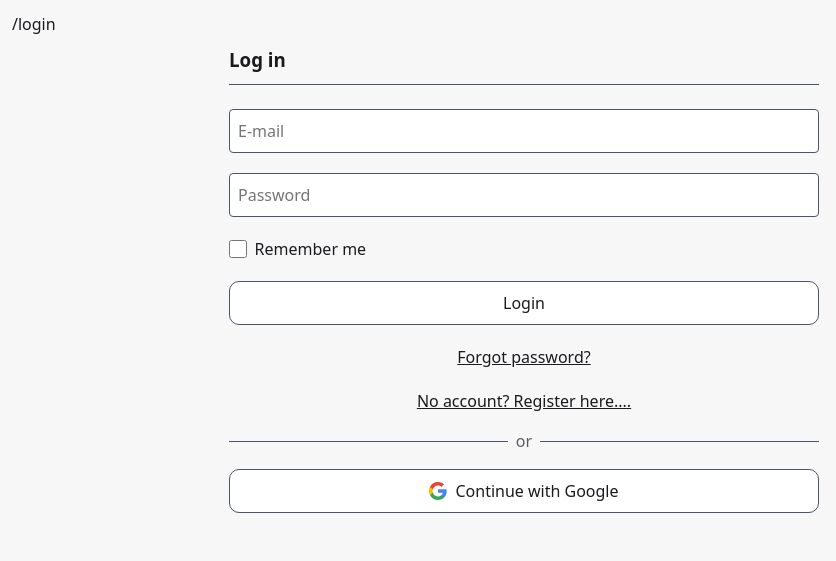
Test: LoginPage › clears a field's server error when its value changes
Type "ada@example.com" into the field labelled "E-mail" at coordinates (524, 131), box [229,109,819,153]
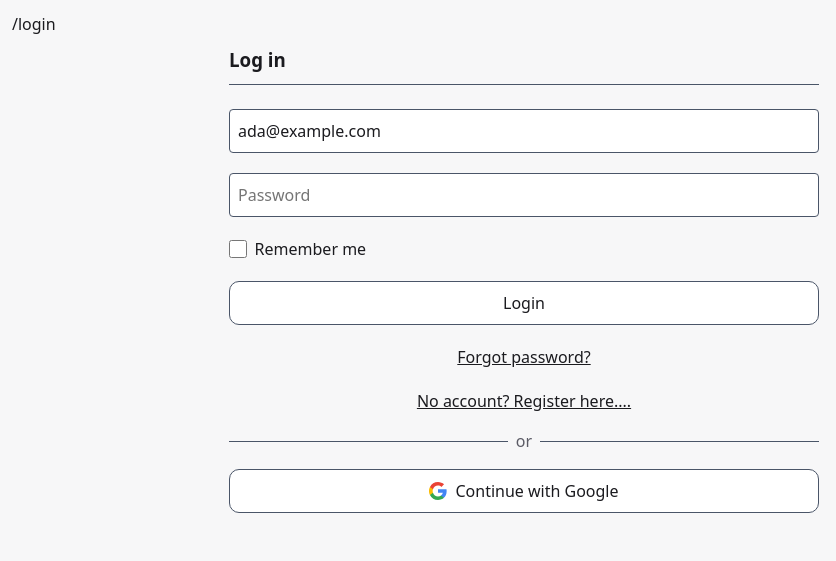
Type "Password1" into the password field labelled "Password" at coordinates (524, 195), box [229,173,819,217]
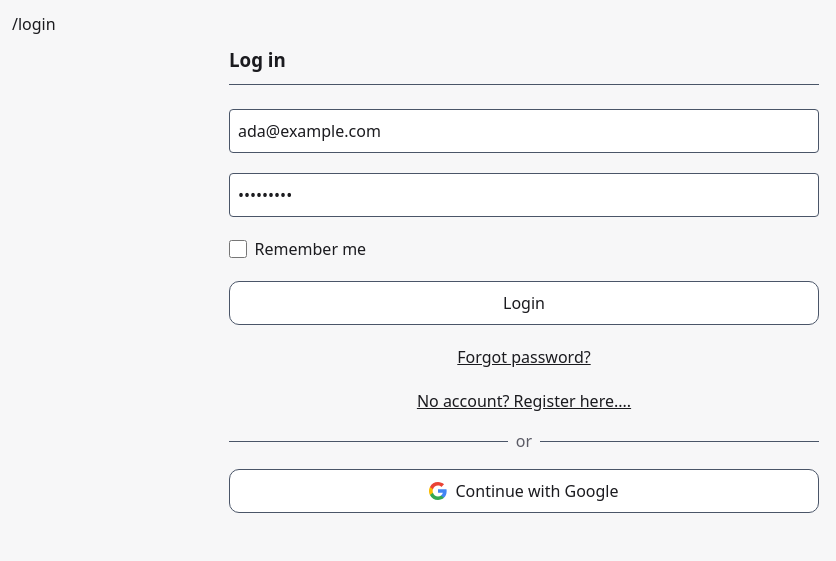
Click the button "Login" at coordinates (524, 303), box [229,281,819,325]
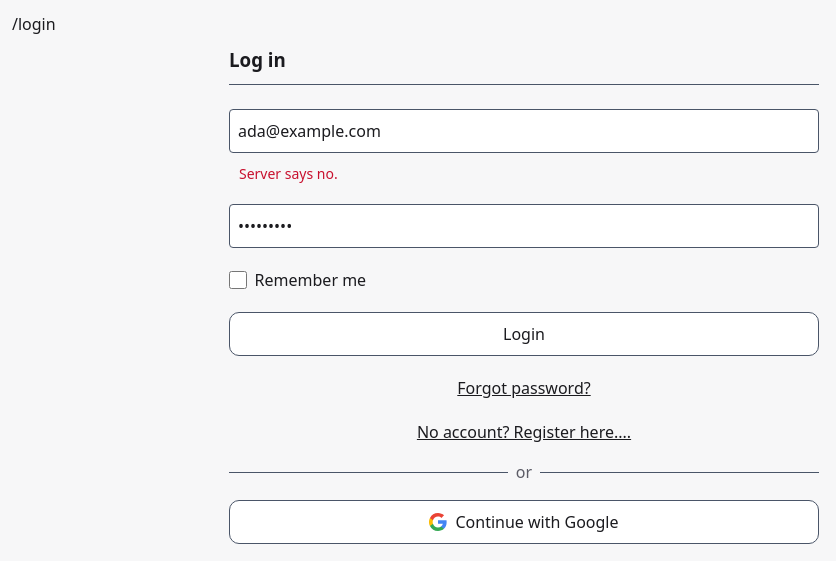
Result: the text "Server says no." is shown at [239,164,338,183]
Replace the text in the field named "E-mail" with "ada2@example.com" at coordinates (524, 131), box [229,109,819,153]
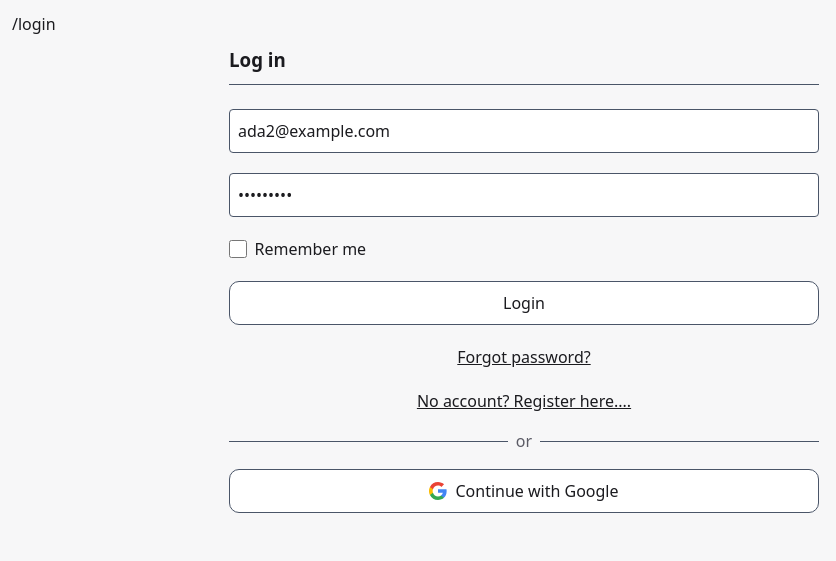
Result: the text "Server says no." is gone
